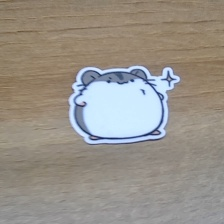mouse: (66, 66, 184, 146)
